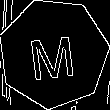M_N: (28, 26, 80, 81)
